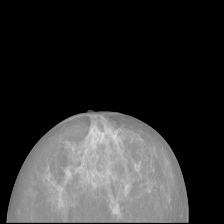Mass_1: (106, 197, 126, 222)
